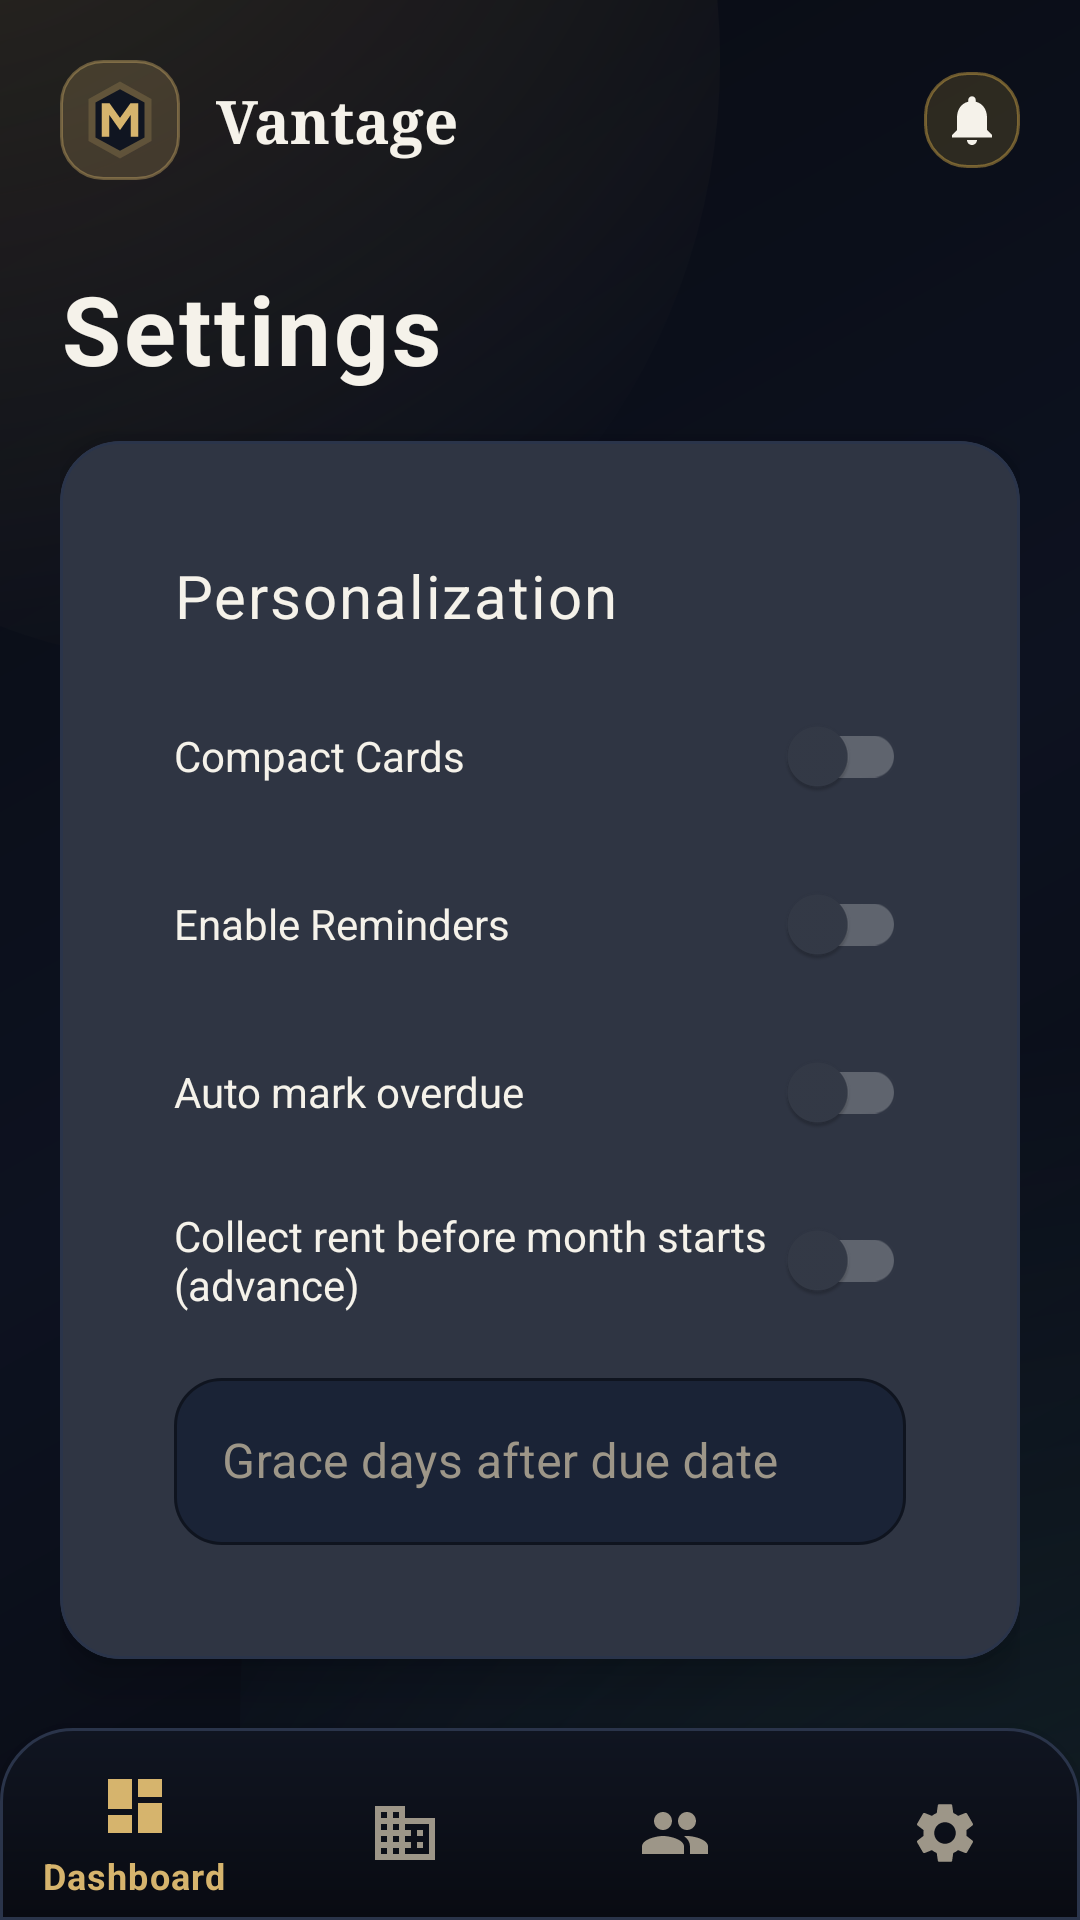

Screen size 1080px x 1920px. Icon name, then its box in pixels as (x1, y1, x2, y2):
Notifications: (924, 72, 1020, 168)
